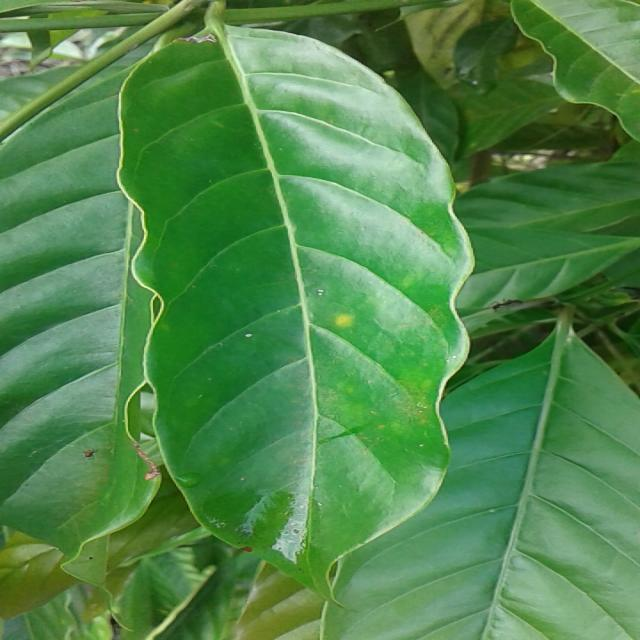Enfermedad-Roya: (116, 26, 474, 592)
